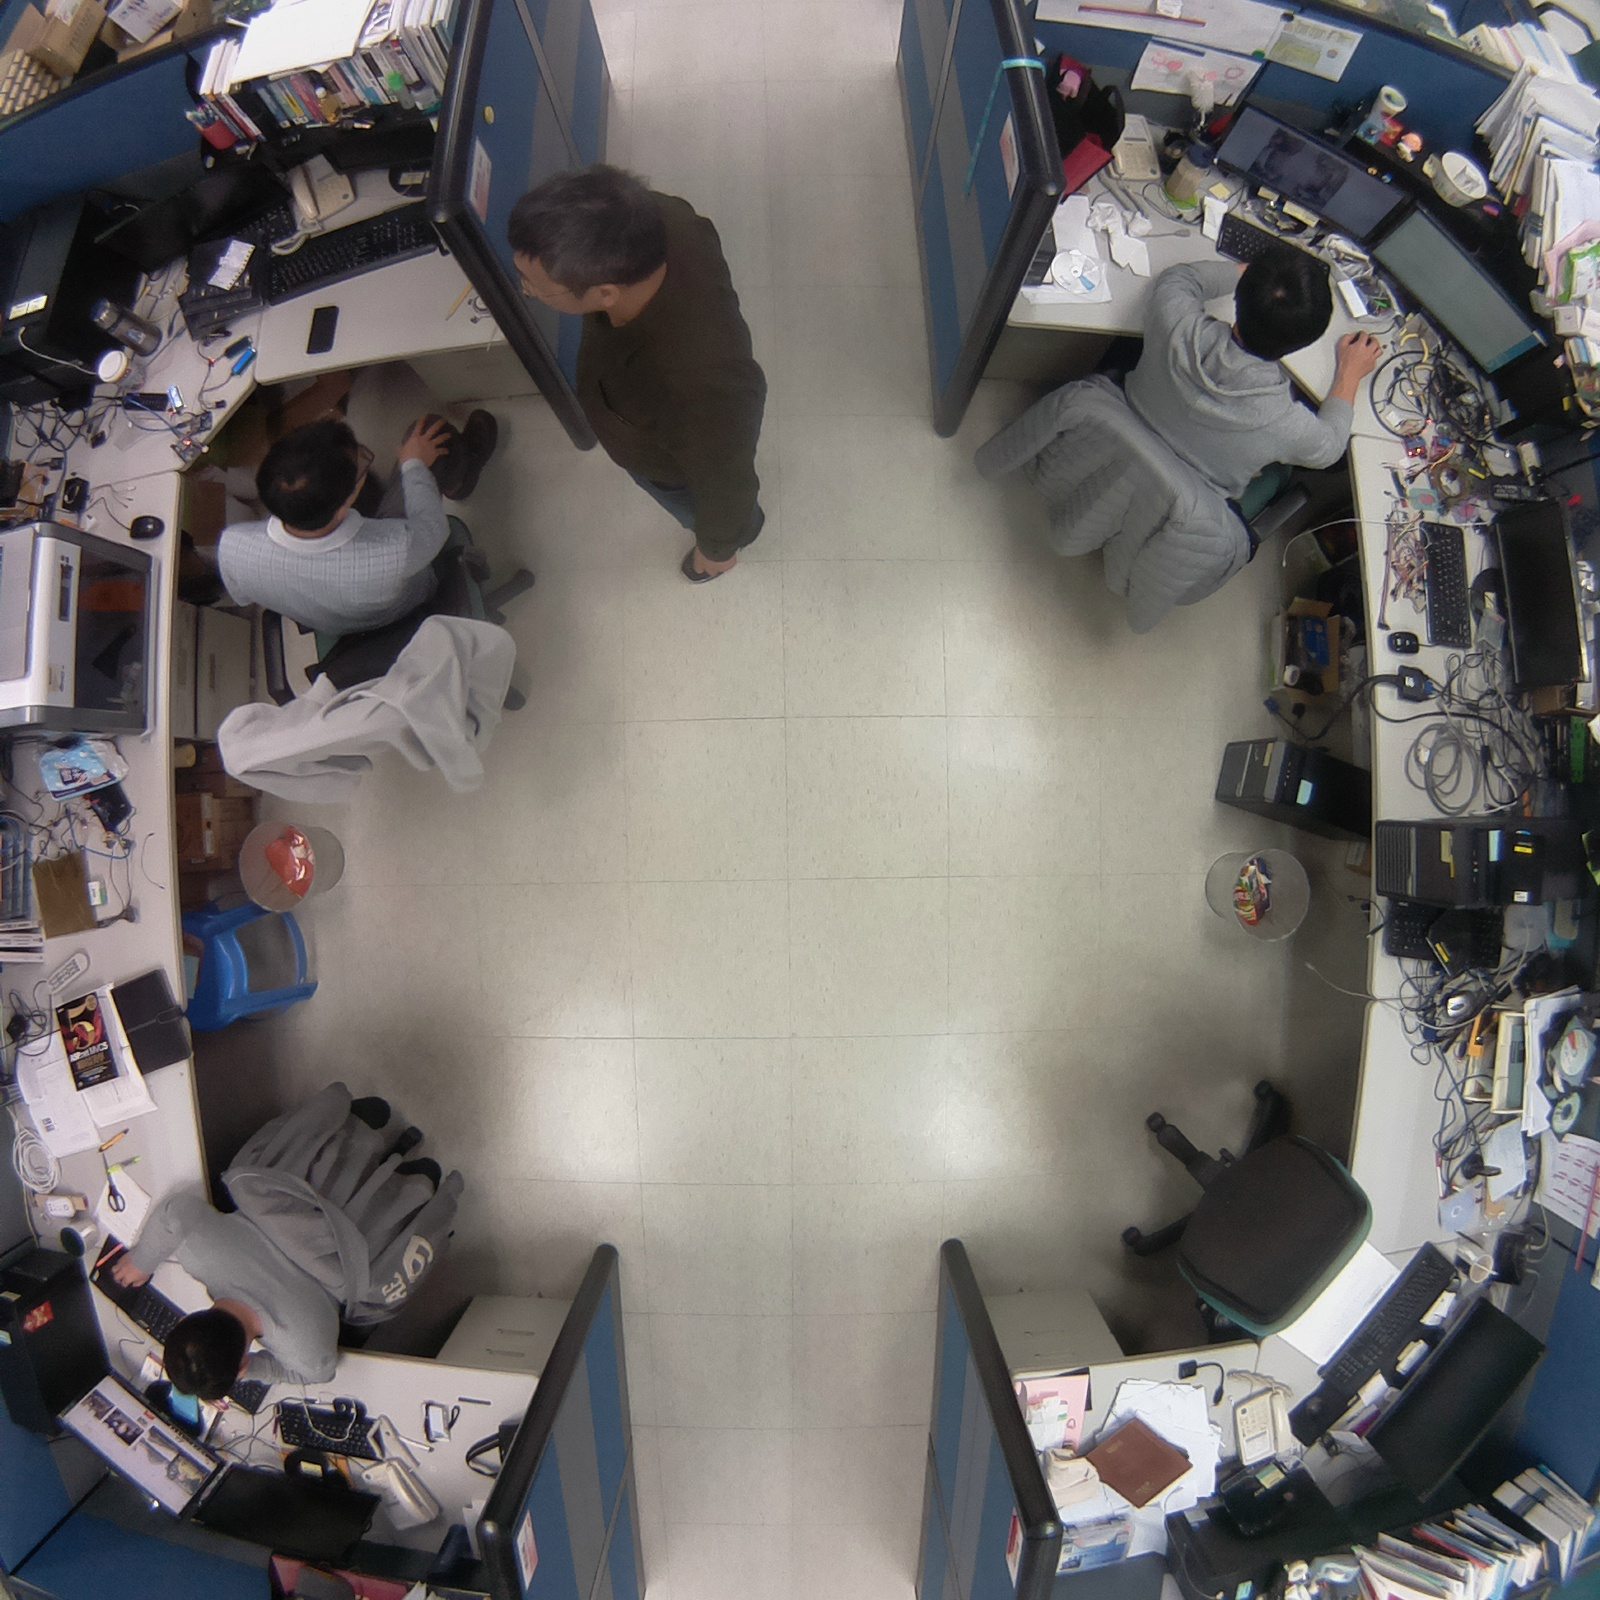chair: (1102, 1062, 1389, 1368)
sitting: (204, 387, 526, 651), (1111, 234, 1389, 525), (92, 1188, 382, 1412)
standing: (491, 147, 821, 602)
